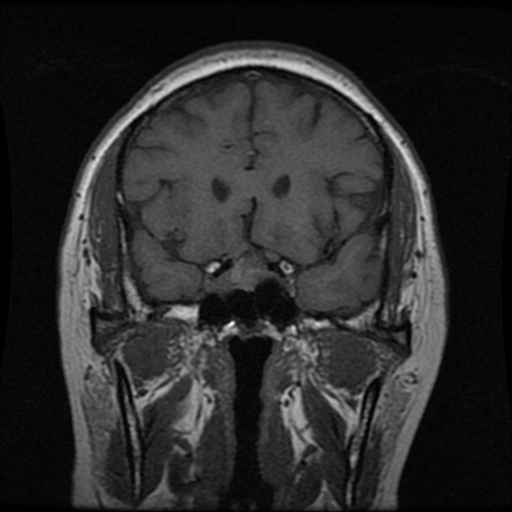pituitary: (214, 254, 269, 291)
